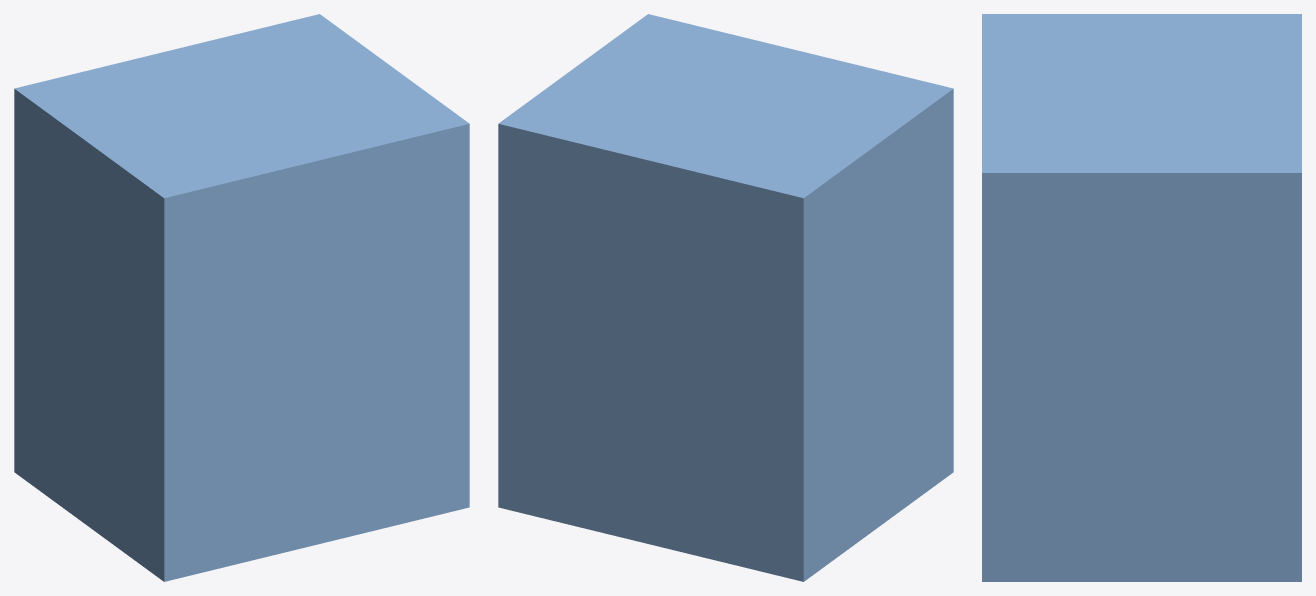
The model's file is axis-probe-synthetic-input.glb.
3 renders of one model, left to right at view 1: azimuth 30°, elevation 25°; view 2: azimuth 150°, elevation 25°; view 3: azimuth 270°, elevation 25°, orthographic. The views are drawn at different scales.
Visible parts, largest first — view 1: SM_prop_energy_crate_01_LOD0; view 2: SM_prop_energy_crate_01_LOD0; view 3: SM_prop_energy_crate_01_LOD0.
Boxes of the visible parts, x1,y1,x2,y2 form: SM_prop_energy_crate_01_LOD0: [14, 14, 469, 581]; SM_prop_energy_crate_01_LOD0: [498, 14, 953, 581]; SM_prop_energy_crate_01_LOD0: [982, 14, 1301, 581].
Bounding box in the file's own units: 2 × 2.4 × 1.7.
